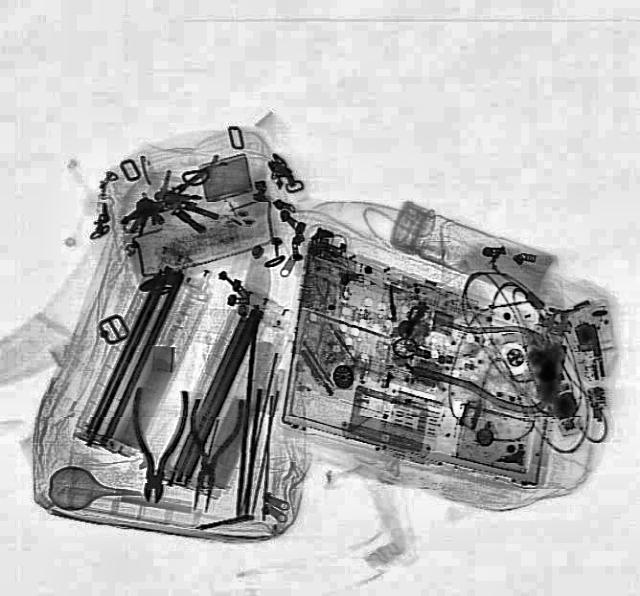Pliers: (170, 394, 246, 516), (120, 385, 188, 505)
